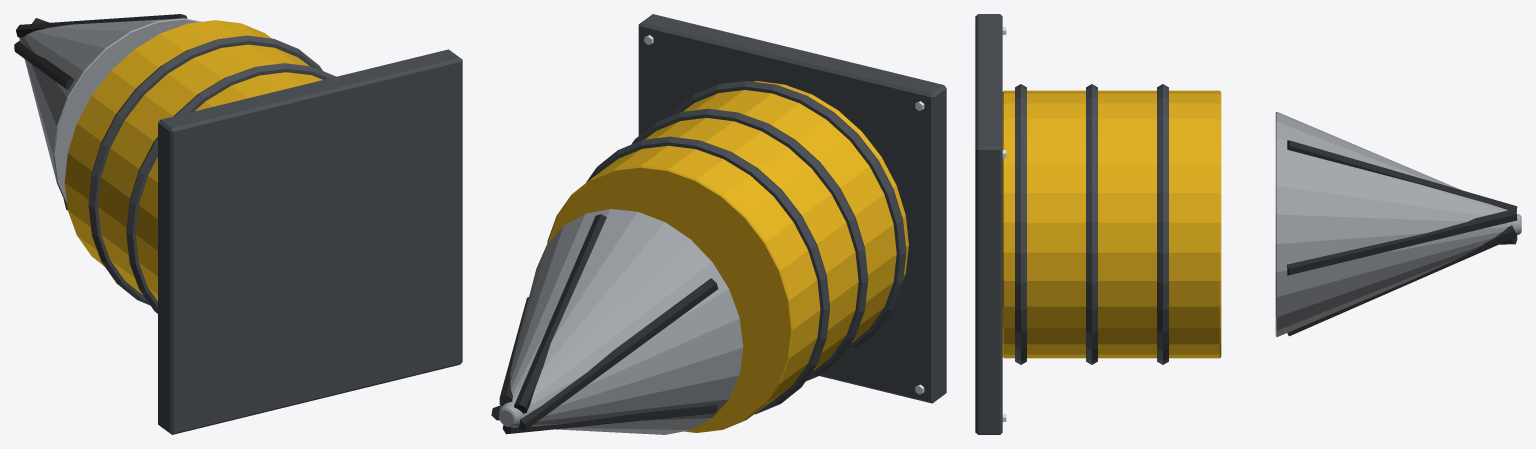
File: drill.glb
3 renders of one model, left to right at view 1: azimuth 30°, elevation 25°; view 2: azimuth 150°, elevation 25°; view 3: azimuth 270°, elevation 25°, orthographic. The views are drawn at different scales.
Visible parts, largest first — view 1: drill; view 2: drill; view 3: drill.
Part boxes in pixels (bbox=[...]): drill: bbox=[14, 14, 462, 434]; drill: bbox=[491, 14, 946, 434]; drill: bbox=[975, 14, 1521, 434].
Bounding box in the file's own units: 1.4 × 1.4 × 2.4.
